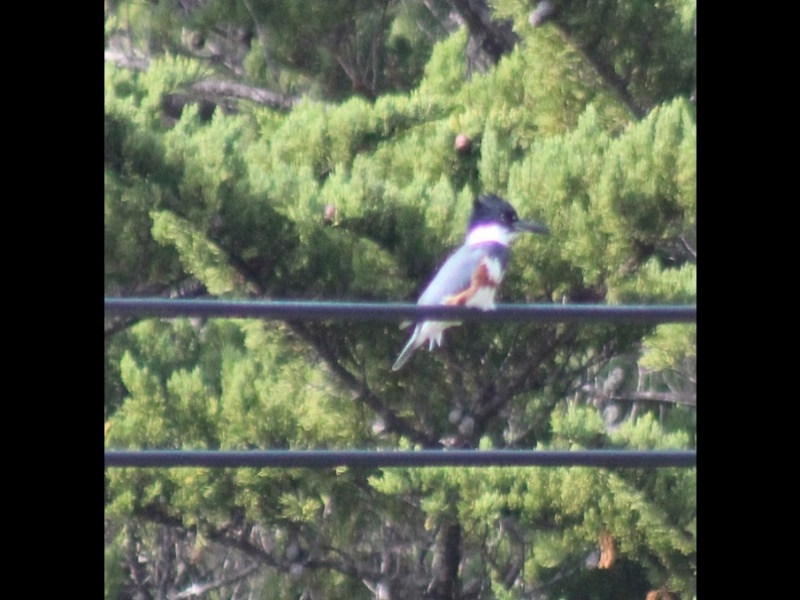kingfisher: (390, 187, 551, 373)
